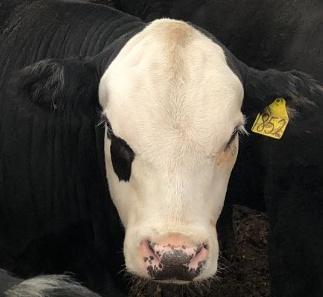muzzles: (120, 228, 222, 285)
